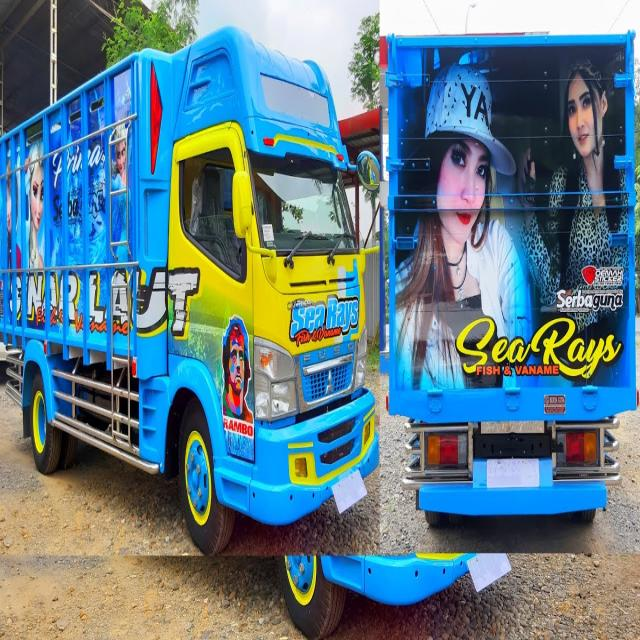truck: (0, 28, 378, 550), (387, 30, 639, 527)
